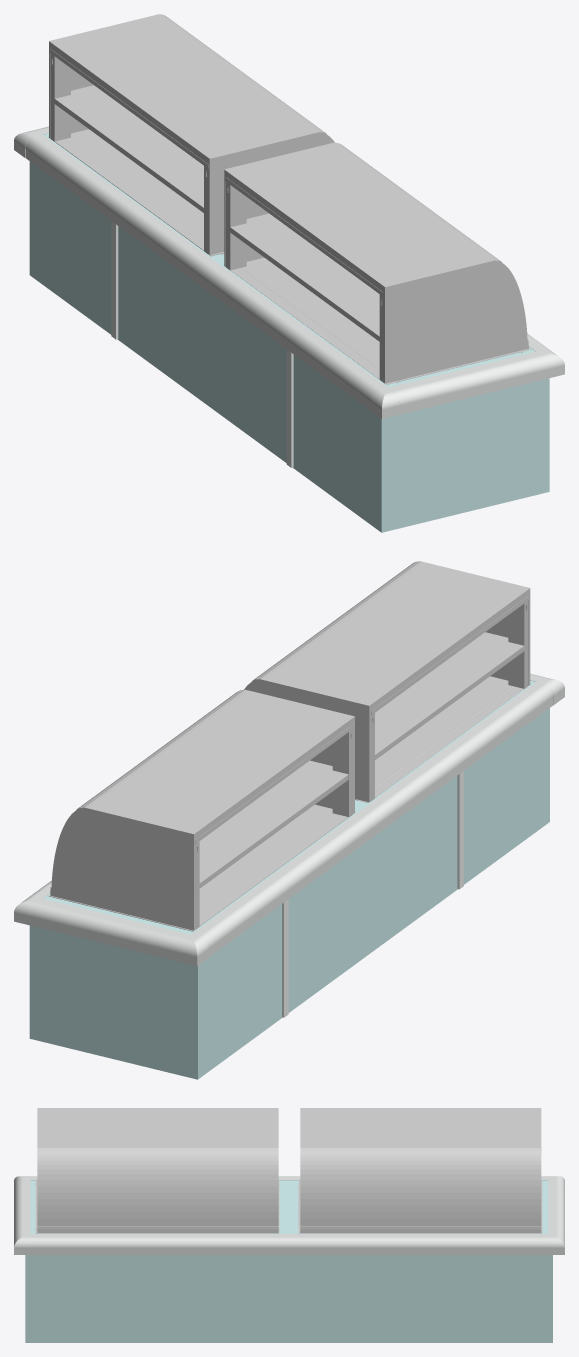
3 views of the same model, one above another, from view 1: azimuth 30°, elevation 25°; view 2: azimuth 150°, elevation 25°; view 3: azimuth 270°, elevation 25° (orthographic). The views are drawn at different scales.
Parts seen in each view (by area): view 1: Cube, Cube.017, Cube.019, Cube.018, Cube.020, Cube.021, Cube.005, Cube.007, Cube.035, Cube.026, Cube.025, Cube.024 (+4 smaller); view 2: Cube, Cube.019, Cube.017, Cube.018, Cube.021, Cube.020, Cube.007, Cube.005, Cube.032, Cube.029, Cube.025, Cube.024 (+4 smaller); view 3: Cube, Cube.019, Cube.017, Cube.018, Cube.022, Cube.023, Cube.024, Cube.025, Cube.007, Cube.005.
Boxes of the visible parts, <box> form: Cube: <box>29,133,549,532</box>; Cube.017: <box>224,143,527,383</box>; Cube.019: <box>49,15,334,254</box>; Cube.018: <box>14,126,564,418</box>; Cube.020: <box>230,213,379,341</box>; Cube.021: <box>54,85,203,212</box>; Cube.005: <box>231,260,530,384</box>; Cube.007: <box>48,129,224,256</box>; Cube.035: <box>50,54,70,141</box>; Cube.026: <box>226,182,246,270</box>; Cube.025: <box>156,14,326,133</box>; Cube.024: <box>332,142,502,262</box>; Cube: <box>29,680,549,1079</box>; Cube.019: <box>51,690,354,930</box>; Cube.017: <box>244,562,530,802</box>; Cube.018: <box>14,673,564,966</box>; Cube.021: <box>199,760,348,888</box>; Cube.020: <box>375,632,524,759</box>; Cube.007: <box>49,804,355,931</box>; Cube.005: <box>355,678,530,802</box>; Cube.032: <box>332,729,353,817</box>; Cube.029: <box>508,600,528,688</box>; Cube.025: <box>76,689,246,809</box>; Cube.024: <box>252,561,422,681</box>; Cube: <box>25,1180,552,1342</box>; Cube.019: <box>300,1108,541,1225</box>; Cube.017: <box>37,1108,278,1225</box>; Cube.018: <box>14,1176,564,1254</box>; Cube.022: <box>37,1226,278,1232</box>; Cube.023: <box>300,1226,541,1232</box>; Cube.024: <box>37,1147,278,1153</box>; Cube.025: <box>300,1147,541,1153</box>; Cube.007: <box>298,1180,542,1233</box>; Cube.005: <box>35,1180,279,1233</box>.
Bounding box in the file's own units: 431 × 532 × 1496.
